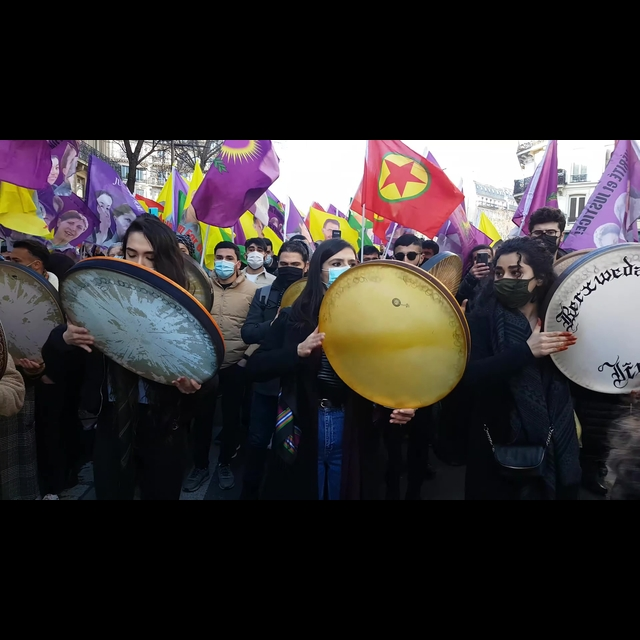PKK: (377, 151, 434, 207)
